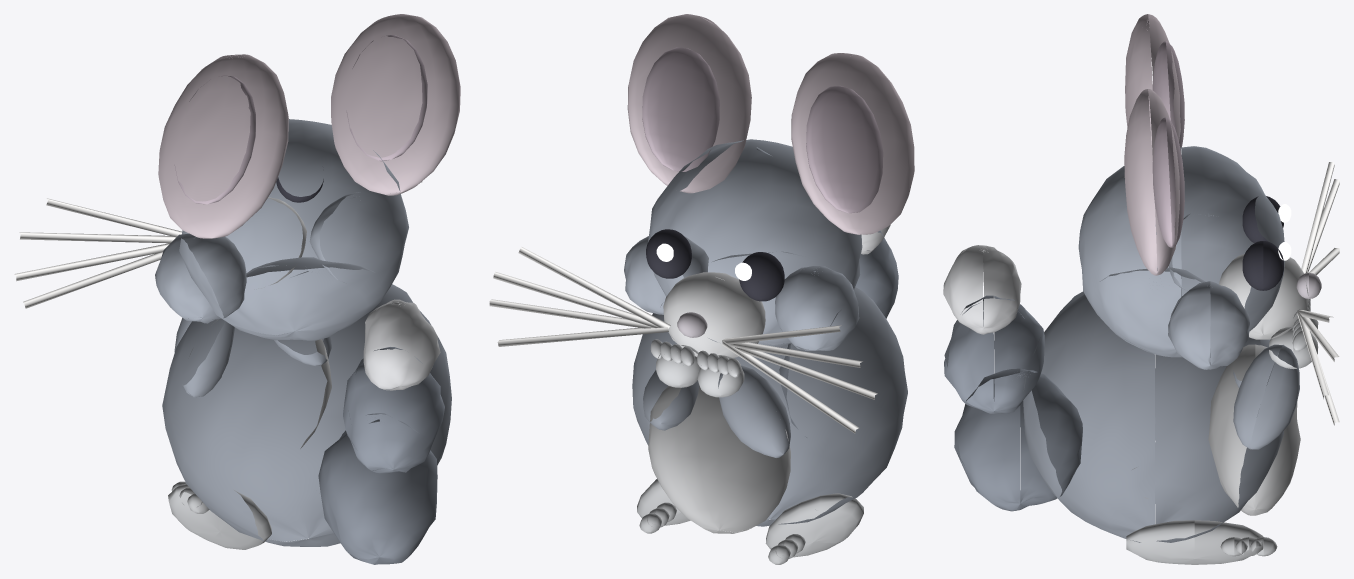
File: pet_chinchilla_sapphire.glb
3 views of the same model, side by side, from view 1: azimuth 30°, elevation 25°; view 2: azimuth 150°, elevation 25°; view 3: azimuth 270°, elevation 25° (orthographic). The views are drawn at different scales.
Parts seen in each view (by area): view 1: chinchilla; view 2: chinchilla; view 3: chinchilla.
Part boxes in pixels (bbox=[...]): chinchilla: bbox=[14, 14, 460, 564]; chinchilla: bbox=[489, 14, 914, 564]; chinchilla: bbox=[943, 14, 1339, 564].
Size of the model in its own units: 0.8416 by 1 by 0.7516.
